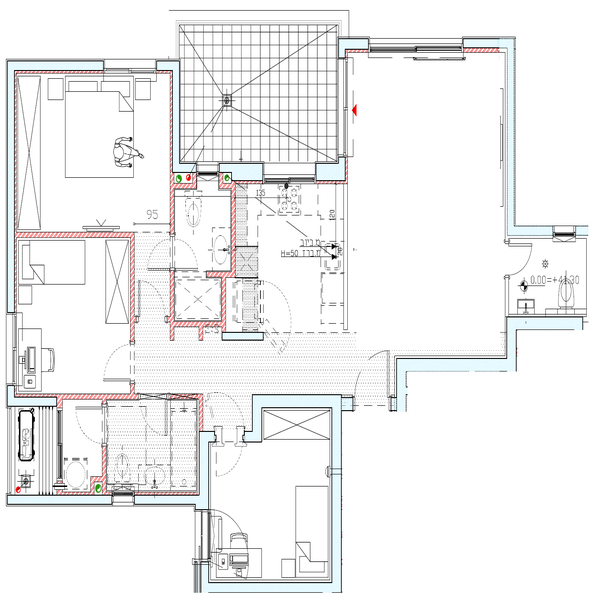door: (353, 344, 393, 408), (75, 406, 113, 445), (138, 395, 171, 437), (100, 347, 137, 383), (137, 280, 170, 320), (214, 438, 244, 476), (173, 235, 202, 273), (144, 241, 176, 274), (507, 239, 534, 275)
room: (340, 37, 517, 374), (4, 58, 177, 241), (195, 394, 344, 595), (8, 394, 214, 506), (16, 234, 136, 404)
wall: (327, 400, 344, 594), (7, 54, 17, 313), (505, 34, 517, 236), (202, 577, 338, 594), (397, 357, 509, 372), (19, 58, 107, 75), (256, 393, 347, 409), (170, 65, 181, 173), (508, 223, 587, 238), (507, 317, 583, 330), (135, 496, 209, 509), (19, 231, 134, 239), (7, 496, 117, 504), (198, 434, 211, 497), (317, 162, 350, 185), (129, 236, 136, 344), (4, 396, 55, 408), (169, 319, 225, 327), (219, 329, 263, 339), (221, 164, 263, 174), (221, 275, 229, 324), (171, 264, 176, 338), (231, 190, 234, 282), (210, 270, 237, 280)
window: (371, 39, 465, 61), (3, 314, 22, 384), (269, 160, 314, 188), (51, 402, 67, 478), (107, 62, 158, 75)
